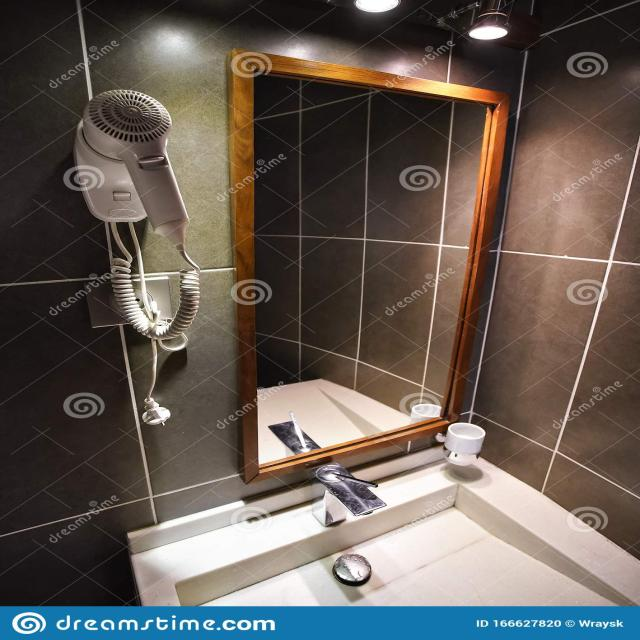dryer: (49, 77, 223, 380), (64, 86, 210, 266)
